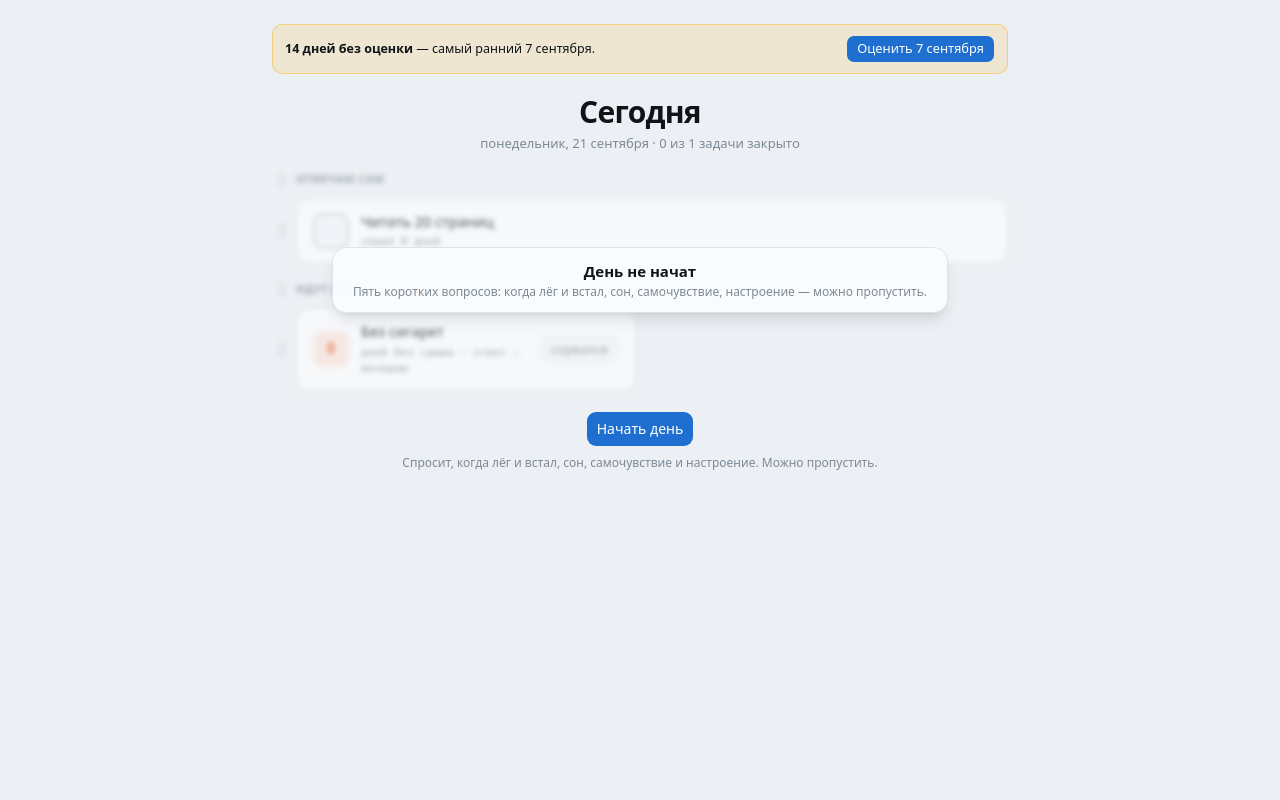
Test: экран дня — начало дня без ловушек › окно утра, открытое вечером до утреннего часа, а отправленное после полуночи, не пишет утро под вчерашним днём
Click the button "Начать день".
click(640, 428)  # box [586,410,694,446]
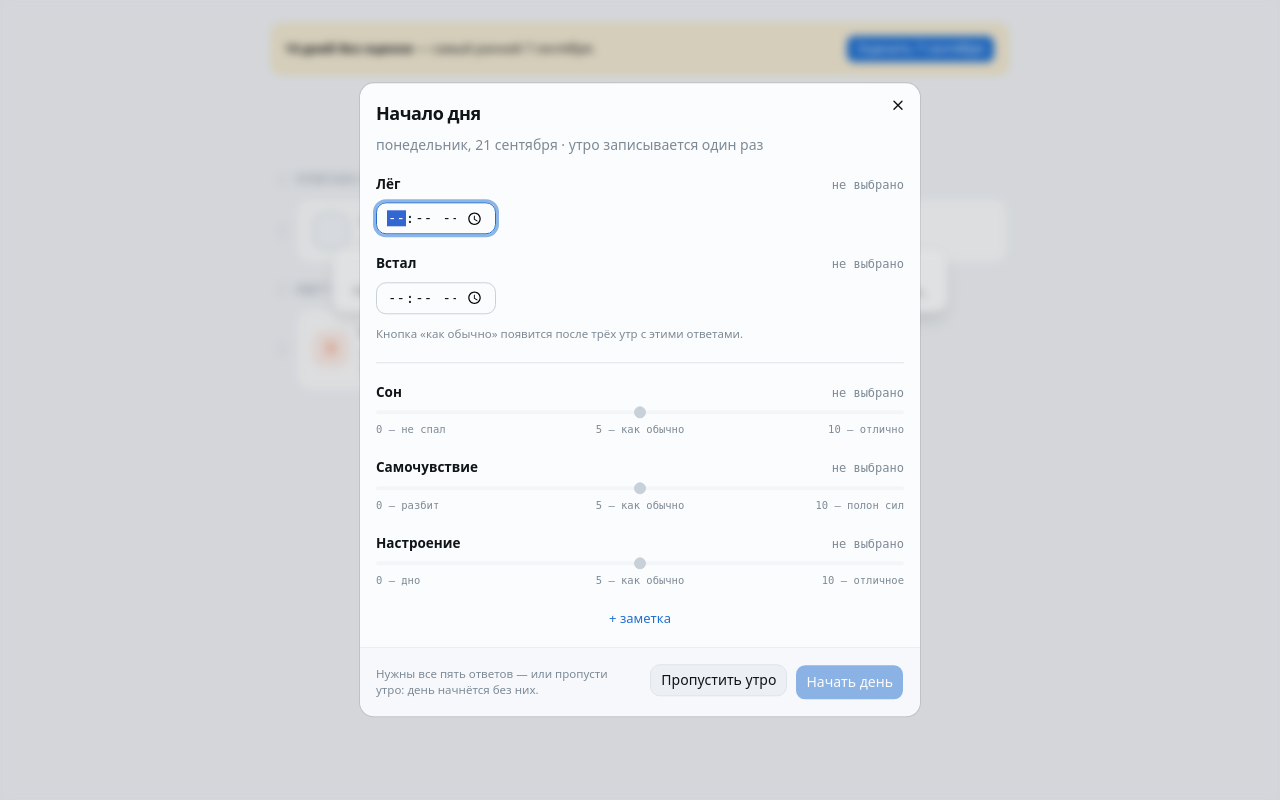
Type "23:30" into the time field named "Лёг, точное время".
click(436, 219); type("23:30")  # box [376,203,496,235]
Type "00:00" into the time field named "Встал, точное время".
click(436, 298); type("00:00")  # box [376,282,496,314]
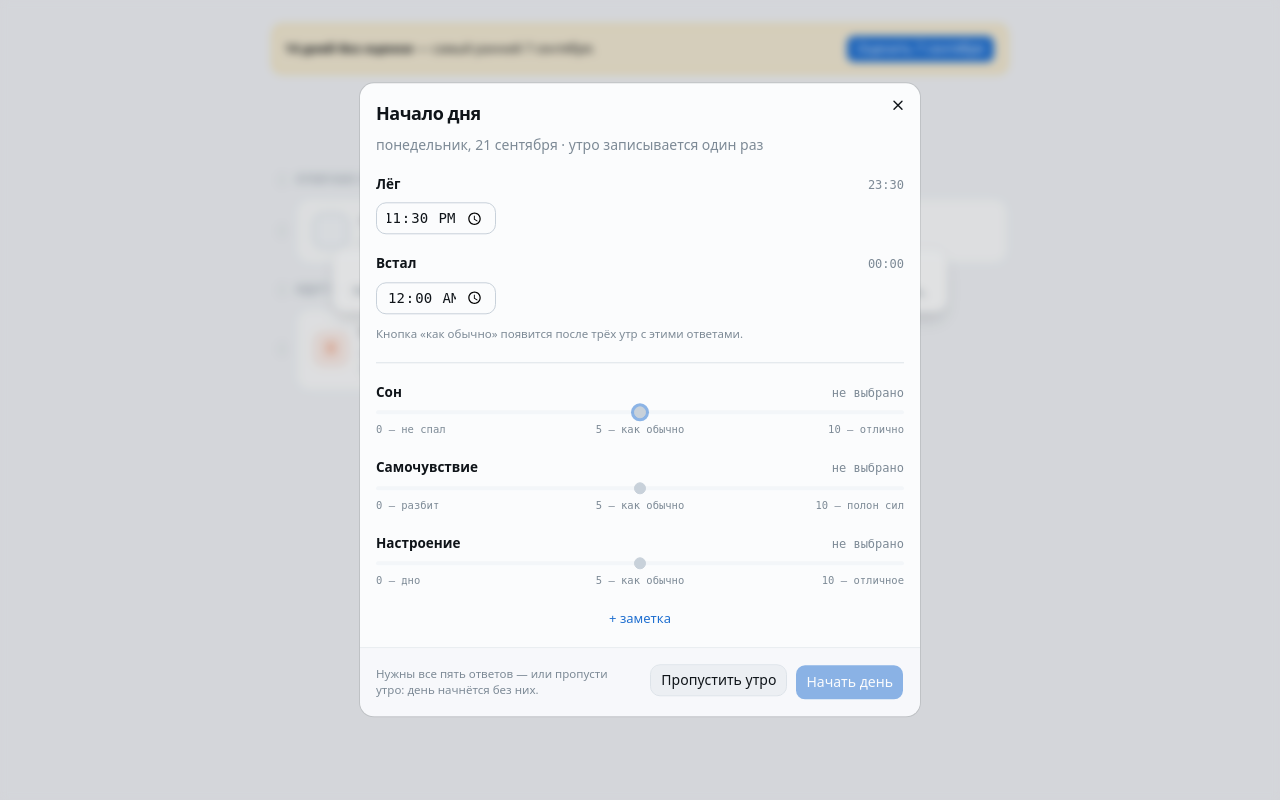
Press Arrowright
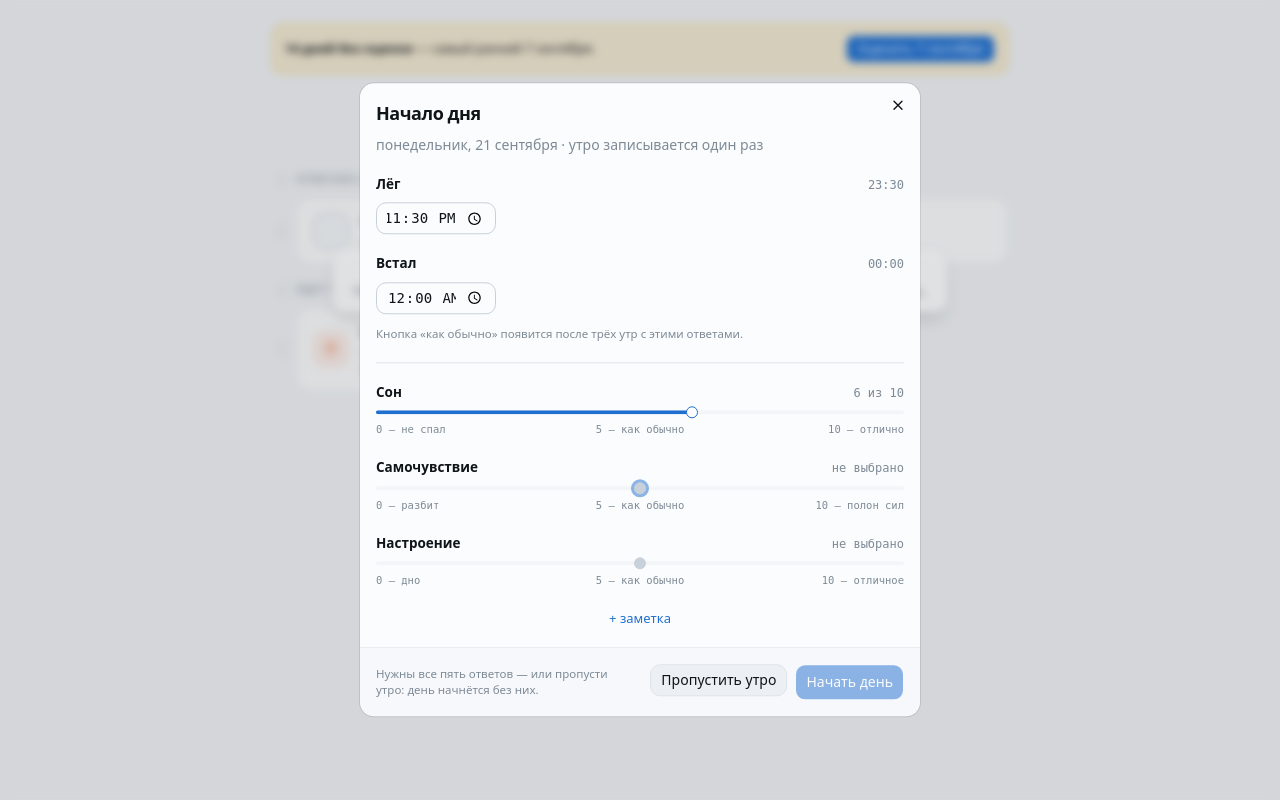
Press Arrowright
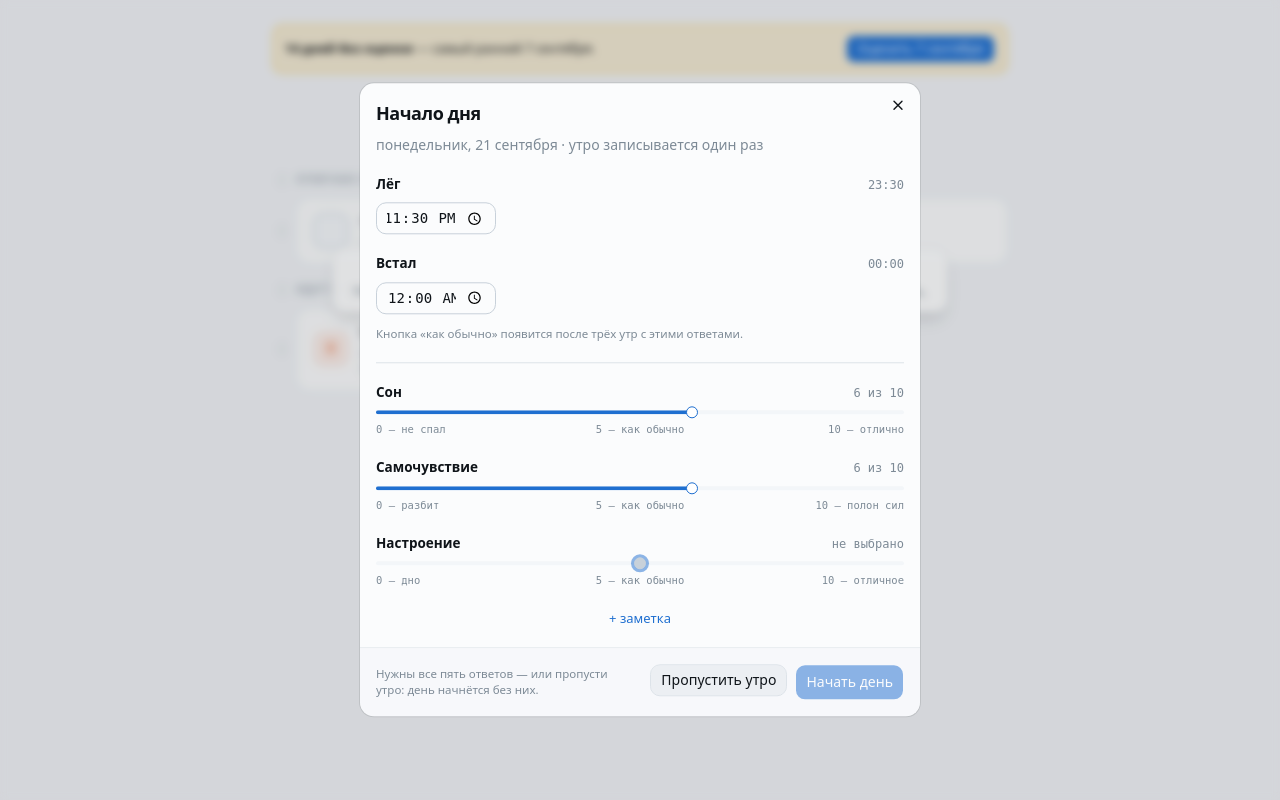
Press Arrowright
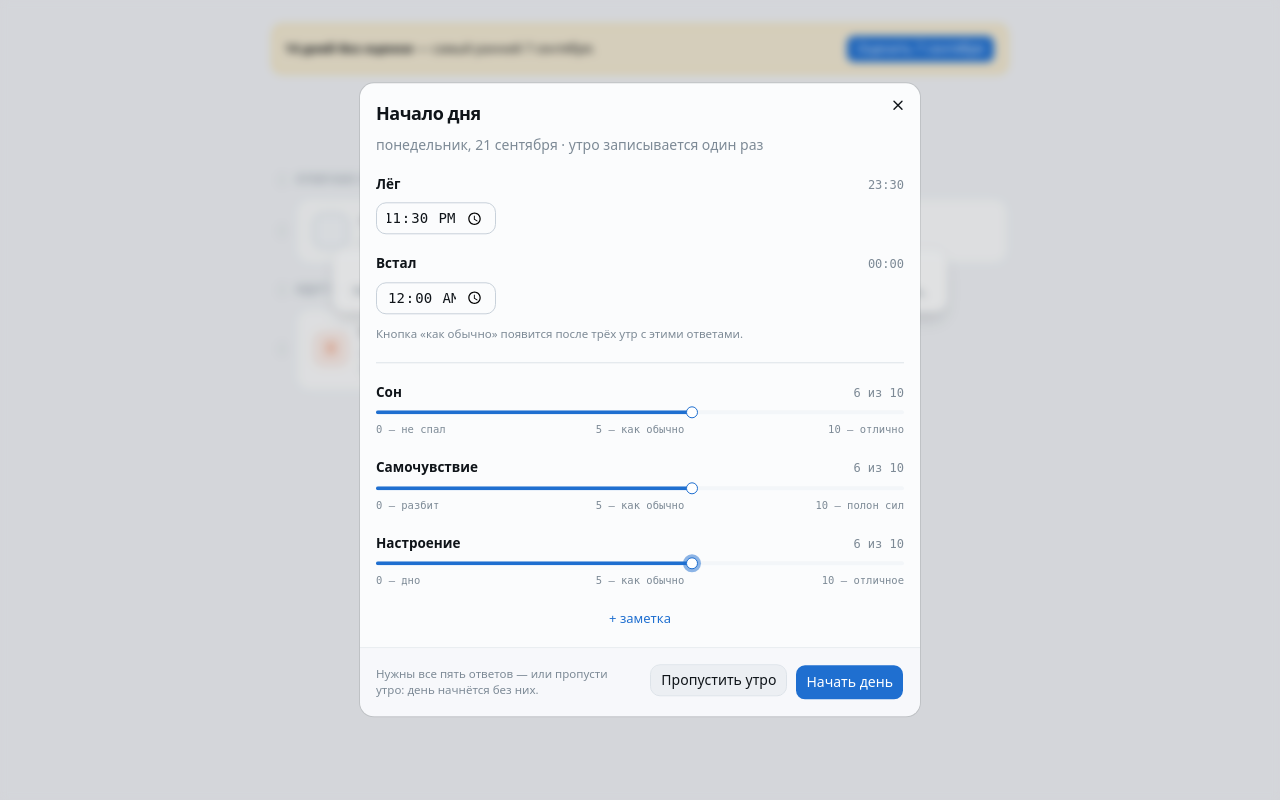
Click the button "Начать день".
click(850, 683)  # box [795,665,904,701]
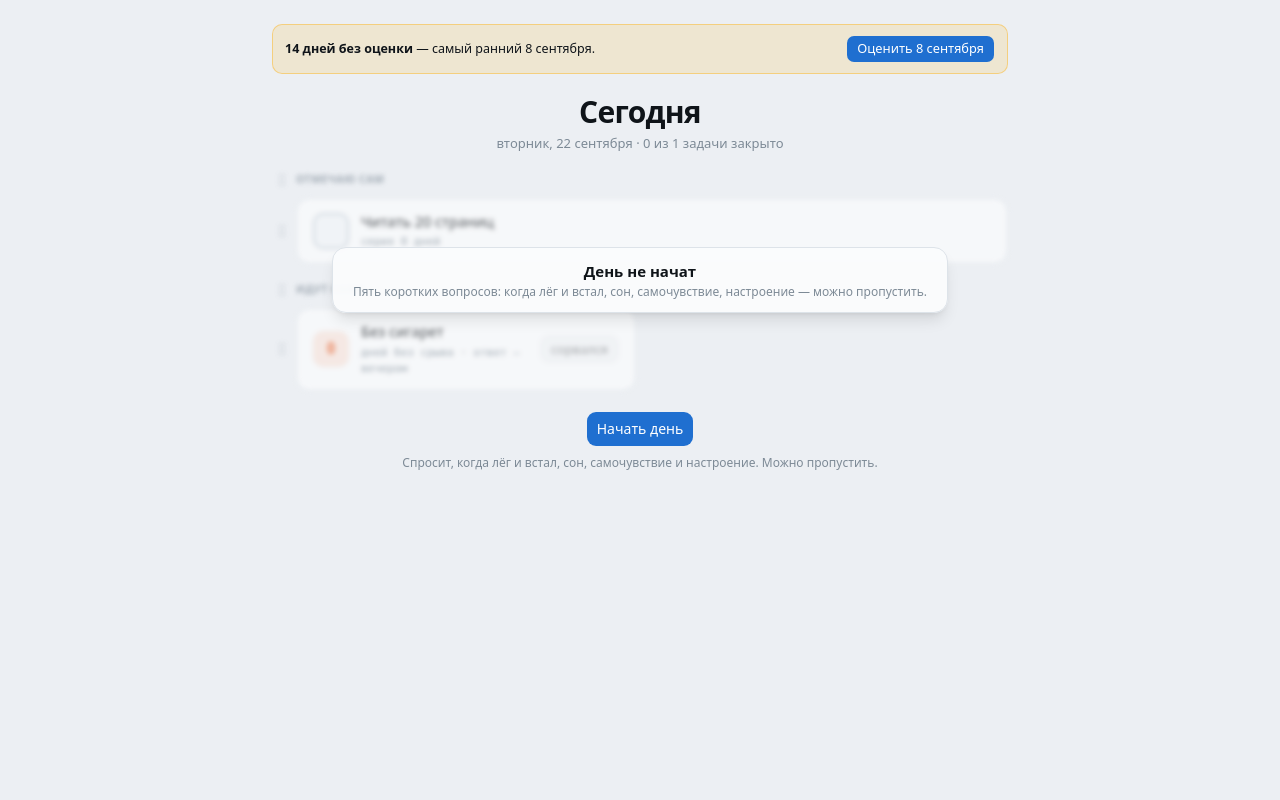
Now the text "вторник, 22 сентября · 0 из 1 задачи закрыто" is shown, box [496,134,784,152]
